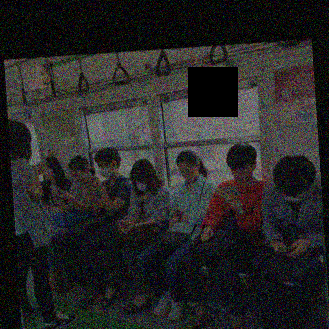with_mask: (98, 162, 112, 179), (133, 177, 147, 194)
without_mask: (229, 165, 251, 184), (178, 165, 197, 182), (69, 167, 84, 182), (39, 167, 52, 181)
